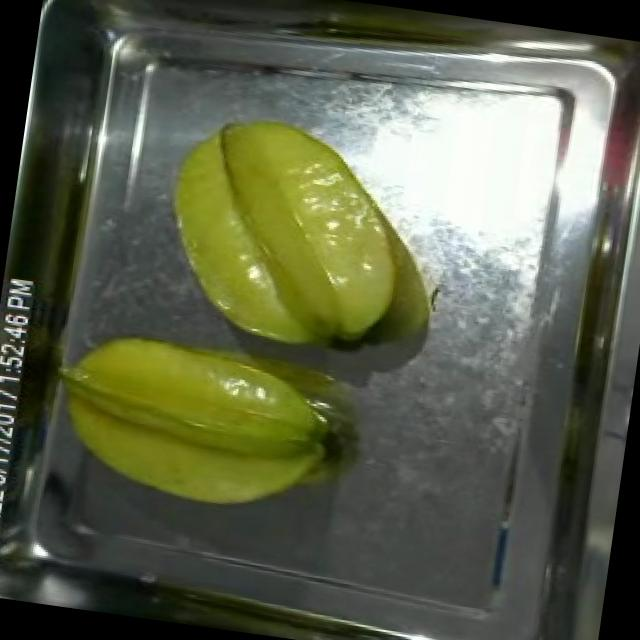fruit: (137, 93, 437, 376), (30, 311, 358, 540)
